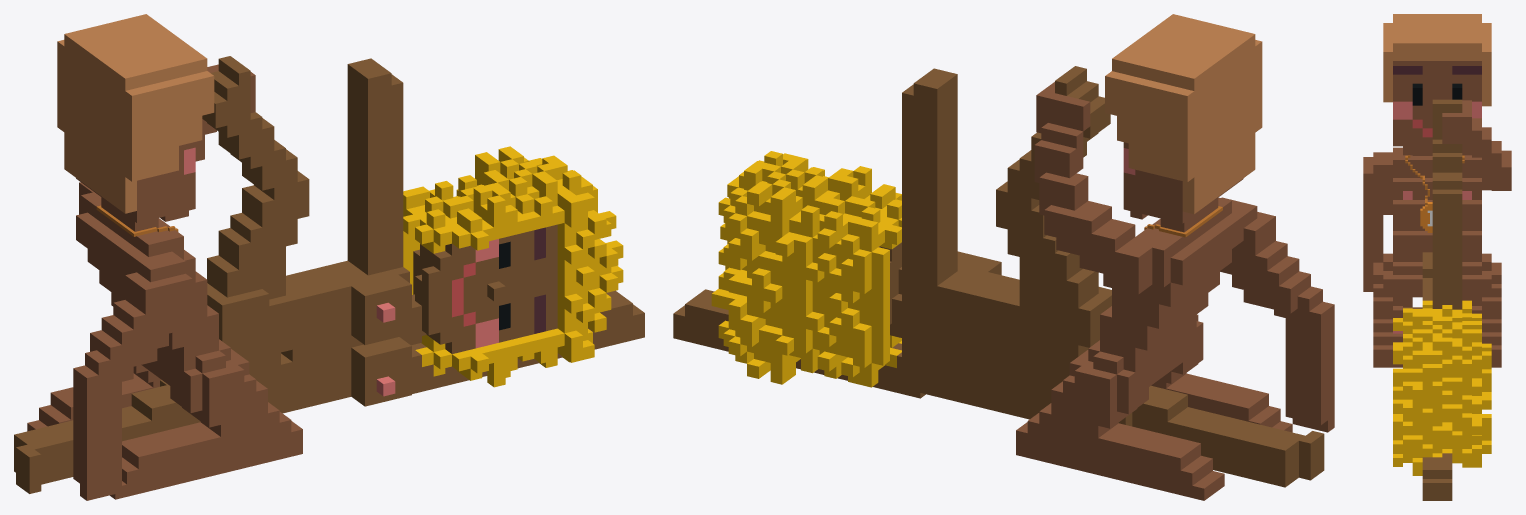
Rendered from kama47.glb.
3 renders of one model, left to right at view 1: azimuth 30°, elevation 25°; view 2: azimuth 150°, elevation 25°; view 3: azimuth 270°, elevation 25°, orthographic. The views are drawn at different scales.
Visible parts, largest first — view 1: Node; view 2: Node; view 3: Node.
Part boxes in pixels (x1,y1,x2,y2): Node: (14, 14, 644, 500); Node: (673, 14, 1334, 500); Node: (1363, 14, 1511, 500).
Bounding box in the file's own units: 21.2 × 13.2 × 6.
1 material, 1 textured.
